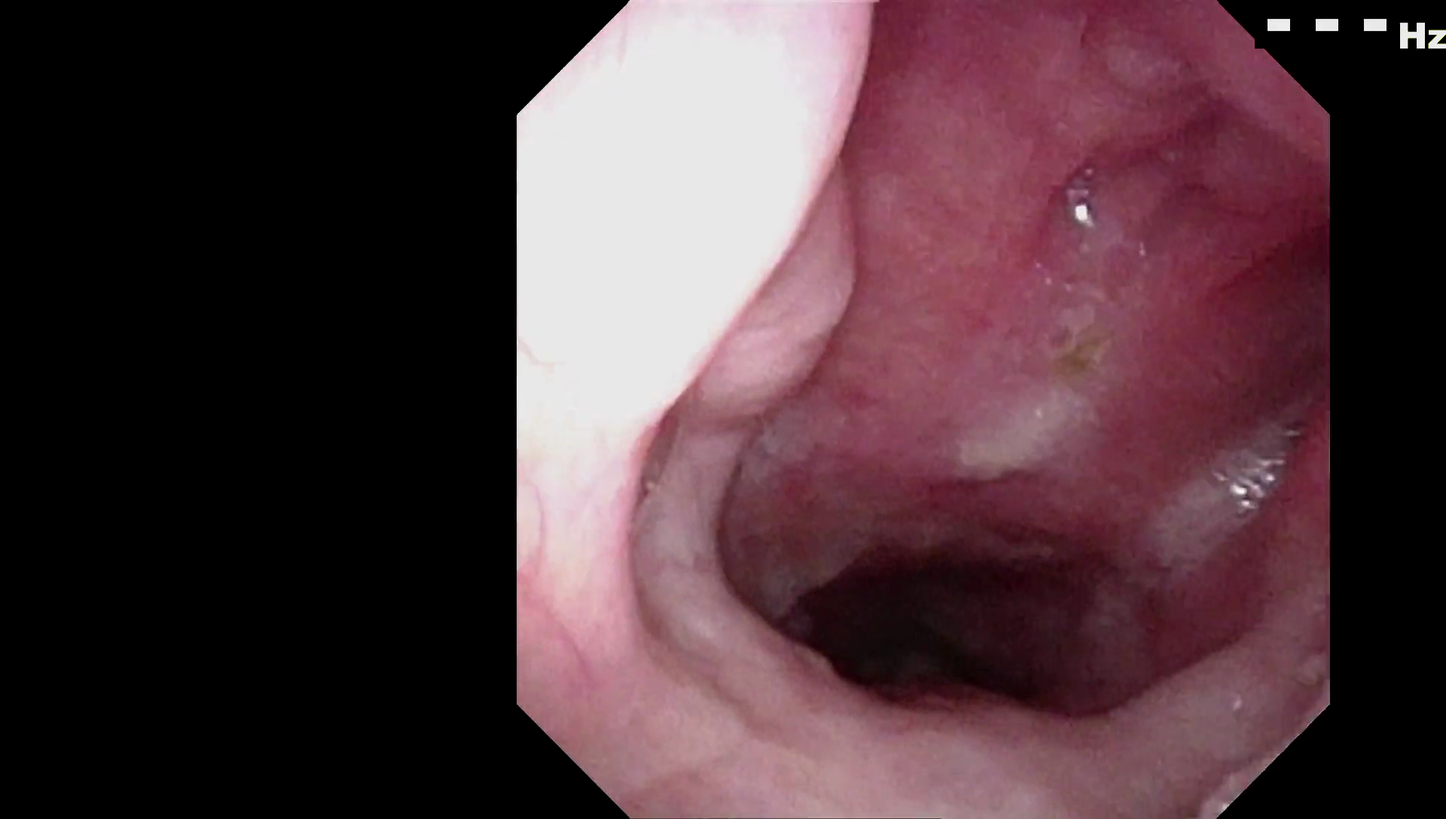close_wall: (572, 80, 897, 418)
next: (758, 504, 1074, 726)
